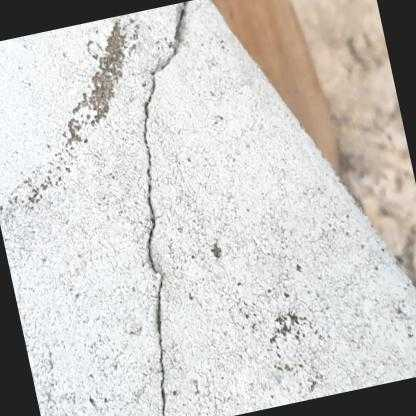crack: (141, 2, 185, 416)
